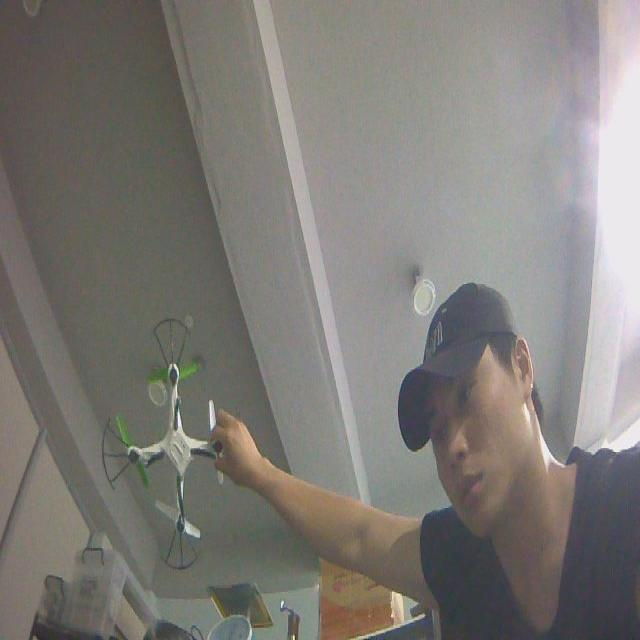drone: (100, 315, 246, 573)
